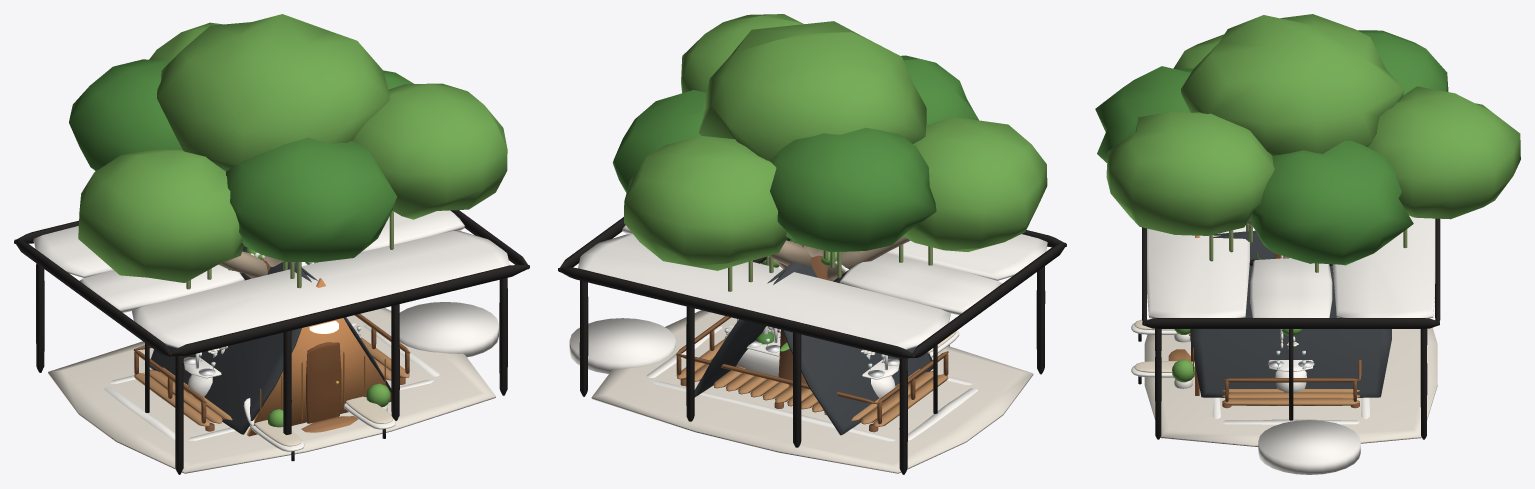
File: granja_eterna.glb
3 renders of one model, left to right at view 1: azimuth 30°, elevation 25°; view 2: azimuth 150°, elevation 25°; view 3: azimuth 270°, elevation 25°, orthographic. The views are drawn at different scales.
Visible parts, largest first — view 1: copa grande centro, piso pabellon, copa grande 3, techo 0 -2.05, copa grande 4, copa grande 5, copa grande 2, techo cabaña -1, frente cabaña, borde jacuzzi, canto techo -3.2, techo -2.65 0 (+18 smaller); view 2: copa grande centro, piso pabellon, copa grande 1, copa grande 2, techo 0 2.05, copa grande 3, techo cabaña -1, techo -2.65 0, borde jacuzzi, copa grande 0, canto techo 3.2, techo 0 -2.05 (+20 smaller); view 3: copa grande centro, copa grande 5, copa grande 0, copa grande 1, piso pabellon, techo cabaña 1, techo 0 -2.05, techo 0 2.05, borde jacuzzi, techo 2.65 0, copa grande 4, canto techo x 4.3 (+12 smaller).
Boxes of the visible parts, x1,y1,x2,y2 form: copa grande centro: (157, 14, 389, 171); piso pabellon: (48, 308, 495, 473); copa grande 3: (78, 149, 243, 282); techo 0 -2.05: (132, 231, 509, 348); copa grande 4: (226, 137, 397, 261); copa grande 5: (353, 83, 507, 219); copa grande 2: (69, 59, 182, 171); techo cabaña -1: (149, 246, 311, 434); frente cabaña: (246, 278, 391, 436); borde jacuzzi: (399, 302, 498, 357); canto techo -3.2: (167, 265, 529, 356); techo -2.65 0: (79, 264, 244, 312); copa grande centro: (699, 21, 926, 161); piso pabellon: (591, 310, 1033, 473); copa grande 1: (624, 136, 787, 270); copa grande 2: (770, 127, 936, 251); techo 0 2.05: (578, 234, 950, 349); copa grande 3: (903, 116, 1047, 251); techo cabaña -1: (773, 262, 933, 435); techo -2.65 0: (839, 253, 1002, 314); borde jacuzzi: (569, 318, 675, 373); copa grande 0: (612, 90, 706, 192); canto techo 3.2: (558, 267, 915, 358); techo 0 -2.05: (886, 234, 1047, 280); copa grande centro: (1181, 14, 1404, 155); copa grande 5: (1106, 111, 1274, 235); copa grande 0: (1250, 140, 1413, 265); copa grande 1: (1367, 86, 1520, 219); piso pabellon: (1144, 318, 1437, 446); techo cabaña 1: (1190, 231, 1391, 397); techo 0 -2.05: (1147, 225, 1249, 318); techo 0 2.05: (1332, 215, 1435, 318); borde jacuzzi: (1258, 420, 1360, 474); techo 2.65 0: (1250, 258, 1332, 317); copa grande 4: (1095, 66, 1193, 162); canto techo x 4.3: (1142, 318, 1439, 328).
Bounding box in the file's own units: 10.46 × 8.47 × 9.3.
